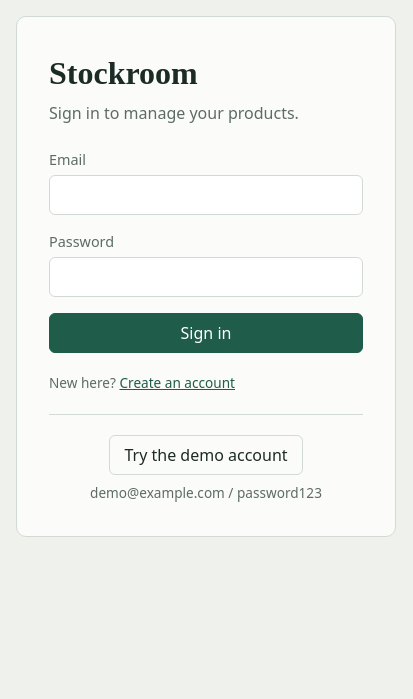
Scenario: register › shows the server's error, such as a duplicate email
Click the button "Create an account".
click(177, 384)  # box top-left (120, 373), bottom-right (235, 394)
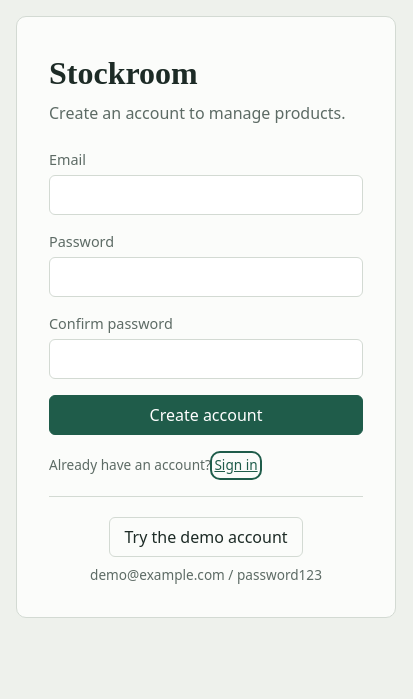
Type "a@b.com" into the field labelled "Email".
click(206, 195); type("a@b.com")  # box top-left (49, 175), bottom-right (363, 215)
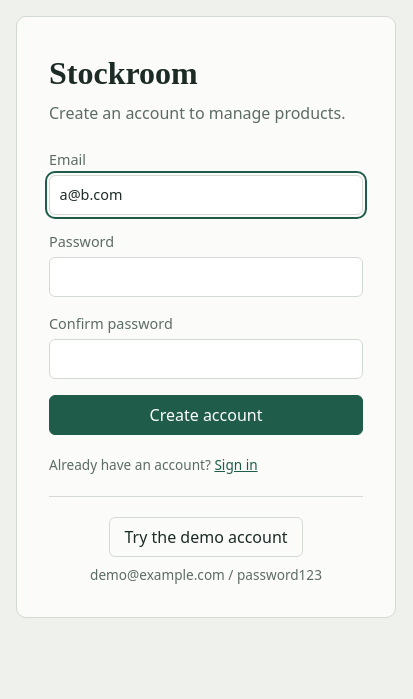
Type "secret12" into the password field labelled "Password".
click(206, 277); type("secret12")  # box top-left (49, 257), bottom-right (363, 297)
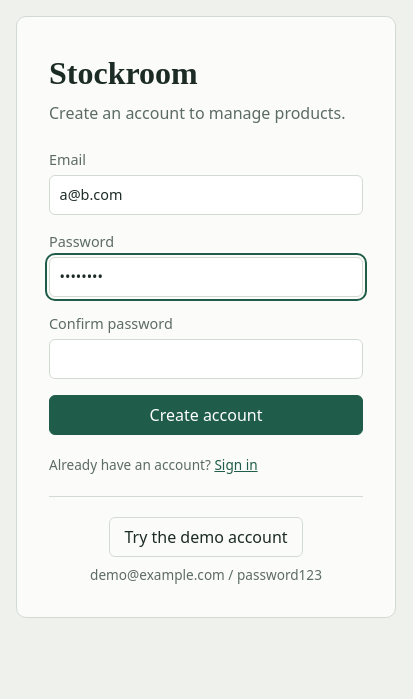
Type "secret12" into the password field labelled "Confirm password".
click(206, 359); type("secret12")  # box top-left (49, 339), bottom-right (363, 379)
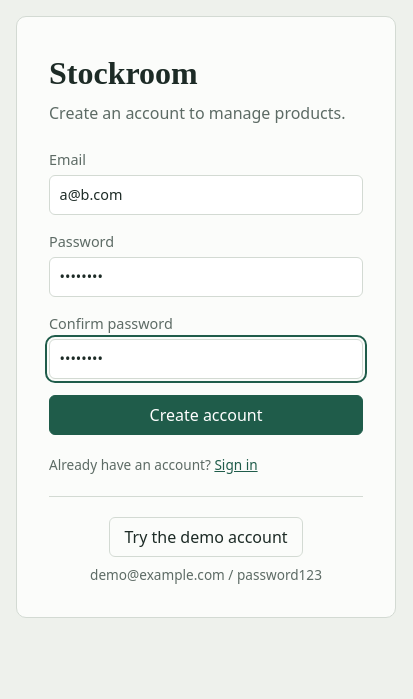
Click the button "Create account".
click(206, 415)  # box top-left (49, 395), bottom-right (363, 435)
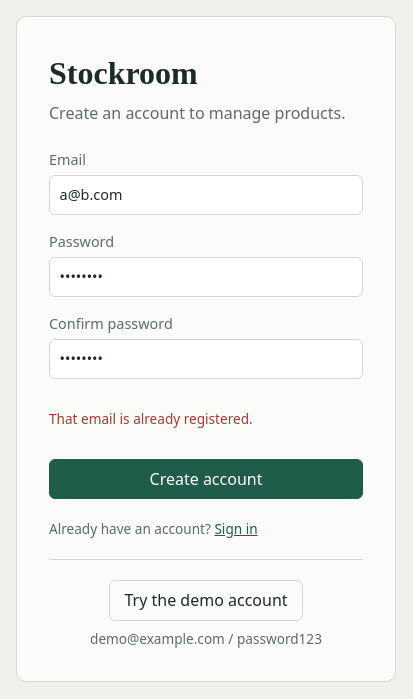
expect the message shows "already registered": met, box top-left (49, 408), bottom-right (253, 428)
